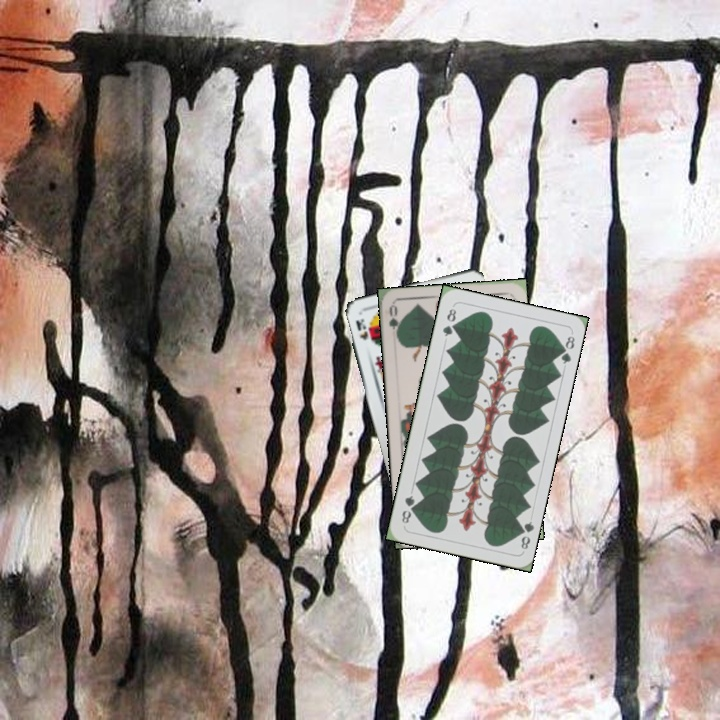G8: (513, 517, 536, 552), (438, 304, 459, 339)
GO: (385, 303, 403, 343)
SK: (352, 314, 370, 343)
